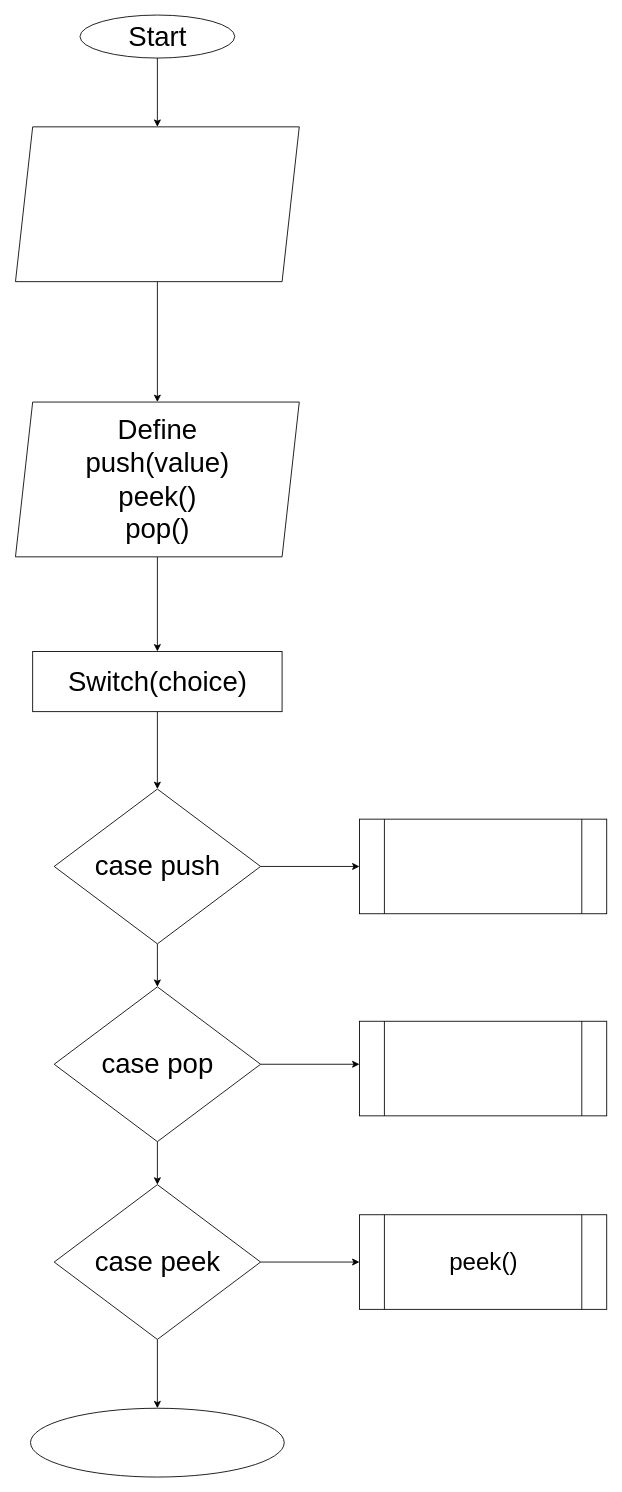
Image size: 622x1492. Some labels were removed from this diagram. The shapes that lost their labels are listed below. From the top down, each one's centre as x and y in pixels, then its label:
At [157,204]: "Define Size top Stack[Size]".
At [483,866]: "push(value)".
At [483,1068]: "pop()".
At [157,1442]: "End".
